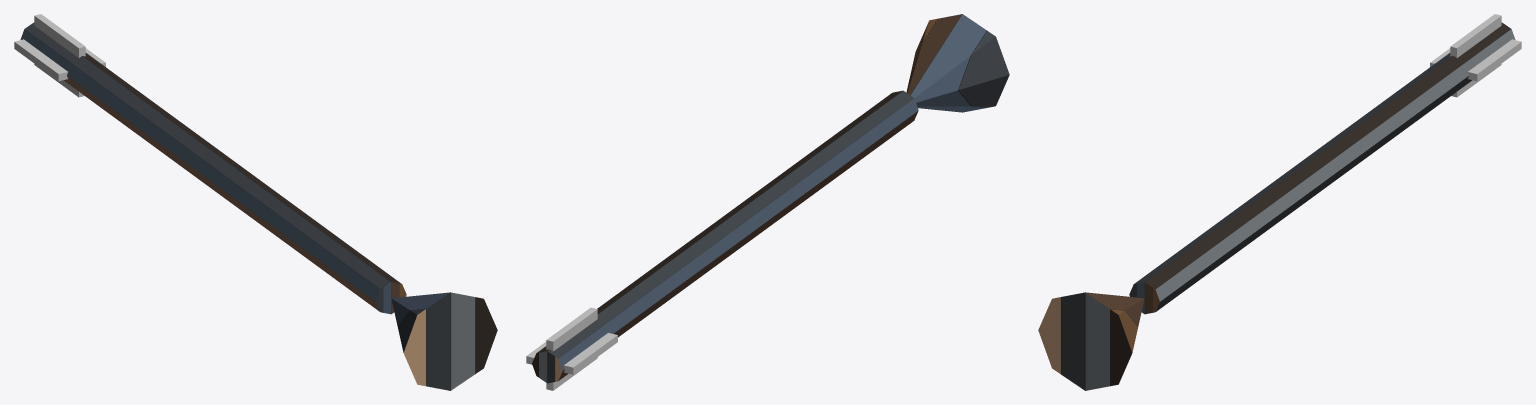
File: PRJ_Arrow_Basic_v001.fbx
3 views of the same model, side by side, from view 1: azimuth 30°, elevation 25°; view 2: azimuth 150°, elevation 25°; view 3: azimuth 330°, elevation 25° (orthographic).
Visible parts, largest first — view 1: PRJ_Arrow_Basic_v001_Shaft, PRJ_Arrow_Basic_v001_Head, PRJ_Arrow_Basic_v001_Fletching_B, PRJ_Arrow_Basic_v001_Fletching_A; view 2: PRJ_Arrow_Basic_v001_Shaft, PRJ_Arrow_Basic_v001_Head, PRJ_Arrow_Basic_v001_Fletching_B, PRJ_Arrow_Basic_v001_Fletching_A; view 3: PRJ_Arrow_Basic_v001_Shaft, PRJ_Arrow_Basic_v001_Head, PRJ_Arrow_Basic_v001_Fletching_B, PRJ_Arrow_Basic_v001_Fletching_A.
Part boxes in pixels (<box>): PRJ_Arrow_Basic_v001_Shaft: <box>20,22,406,314</box>; PRJ_Arrow_Basic_v001_Head: <box>391,292,497,390</box>; PRJ_Arrow_Basic_v001_Fletching_B: <box>34,14,85,97</box>; PRJ_Arrow_Basic_v001_Fletching_A: <box>14,39,105,81</box>; PRJ_Arrow_Basic_v001_Shaft: <box>532,90,918,383</box>; PRJ_Arrow_Basic_v001_Head: <box>906,14,1009,112</box>; PRJ_Arrow_Basic_v001_Fletching_B: <box>546,307,597,390</box>; PRJ_Arrow_Basic_v001_Fletching_A: <box>526,333,617,374</box>; PRJ_Arrow_Basic_v001_Shaft: <box>1129,22,1515,314</box>; PRJ_Arrow_Basic_v001_Head: <box>1038,292,1144,390</box>; PRJ_Arrow_Basic_v001_Fletching_B: <box>1450,14,1501,97</box>; PRJ_Arrow_Basic_v001_Fletching_A: <box>1430,39,1521,81</box>.
Bounding box in the file's own units: 0.11 × 0.11 × 0.84.
